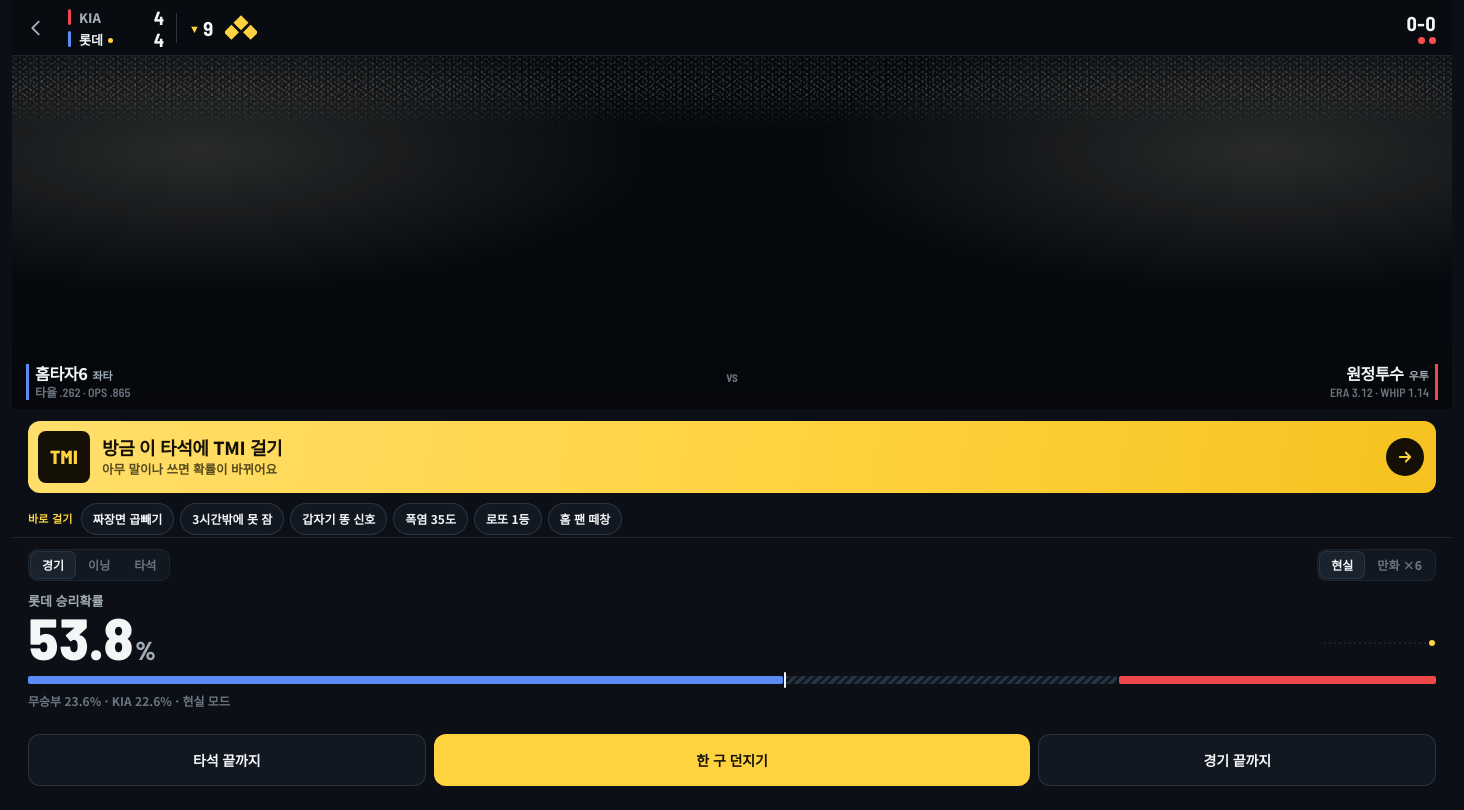
Test: PlayScreen › 탭을 바꾸면 이닝 득점확률·타석 출루확률로 바뀐다
The image size is (1464, 810).
Expected: the element labelled "53.8%" is shown, [28, 611, 155, 664]
Click the tab "이닝": (99, 565) [76, 551, 122, 579]
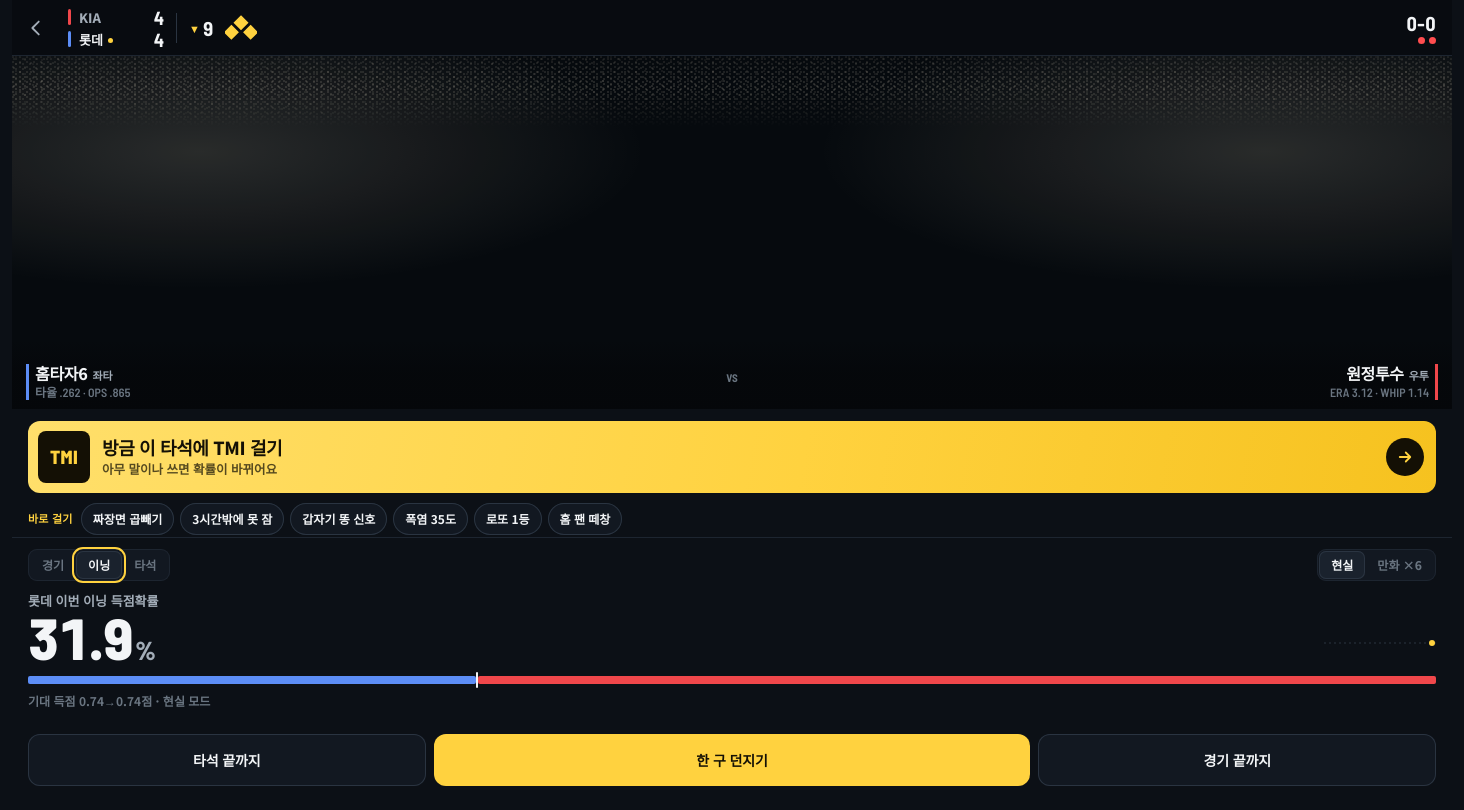
Expected: the element labelled "31.9%" is shown, [28, 611, 158, 664]
Click the tab "타석": (145, 565) [122, 551, 168, 579]
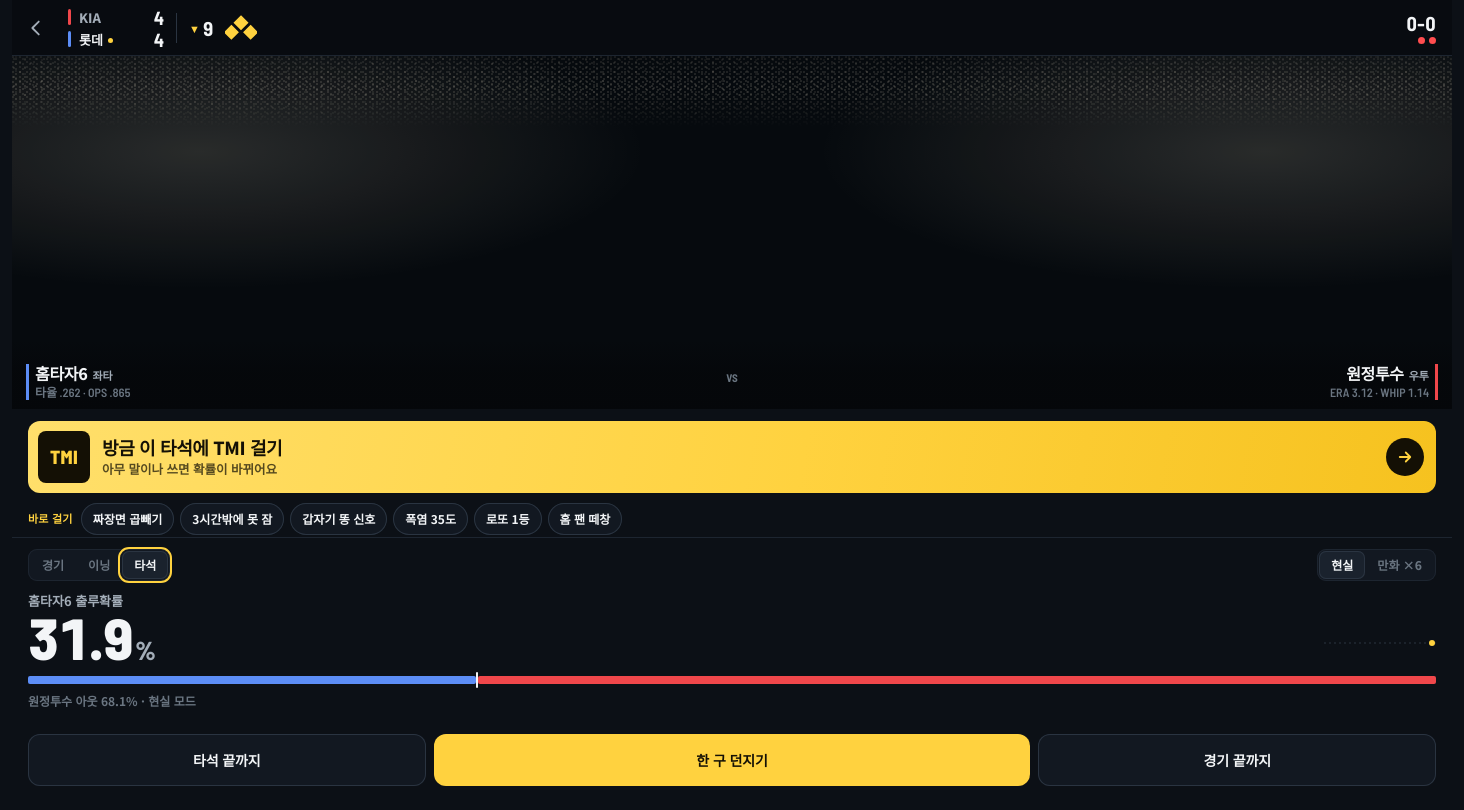
Expected: the element labelled "31.9%" is shown, [28, 611, 155, 664]
Now the element named "승부 확률" reads "경기 이닝 타석 현실 만화 ×6 홈타자6 출루확률 31.9% 원정투수 아웃 68.1% · 현실 모드", box [28, 692, 196, 709]
